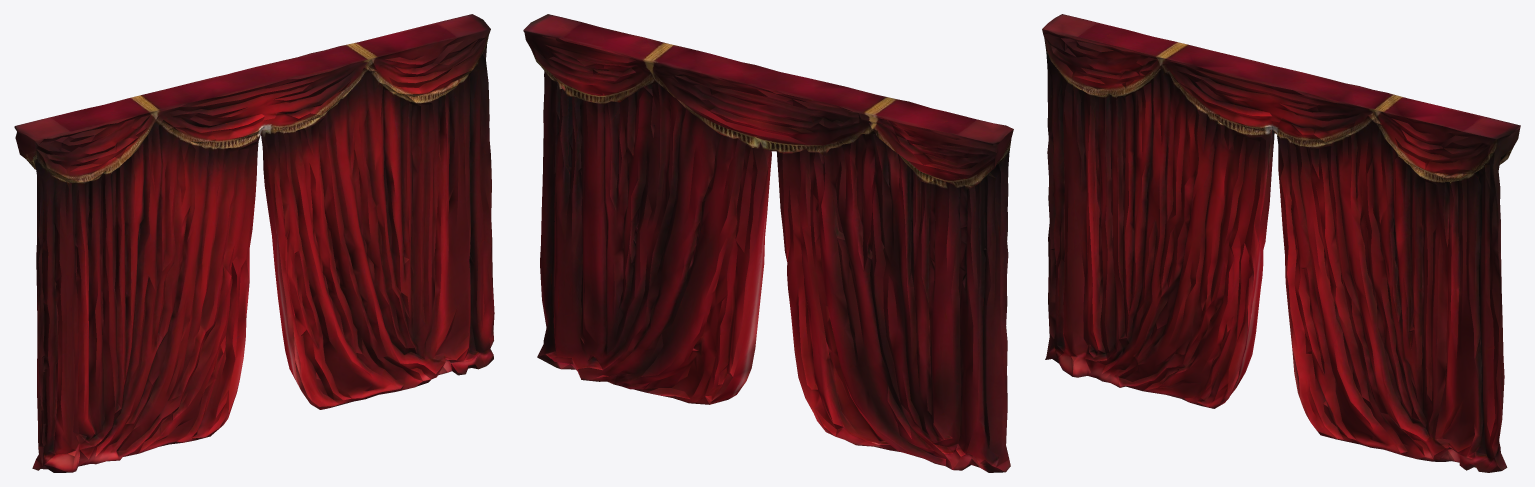
File: curtain.glb
3 renders of one model, left to right at view 1: azimuth 30°, elevation 25°; view 2: azimuth 150°, elevation 25°; view 3: azimuth 330°, elevation 25°, orthographic. The views are drawn at different scales.
Size of the model in its own units: 2 by 1.41 by 0.1914.
1 material, 1 textured.
